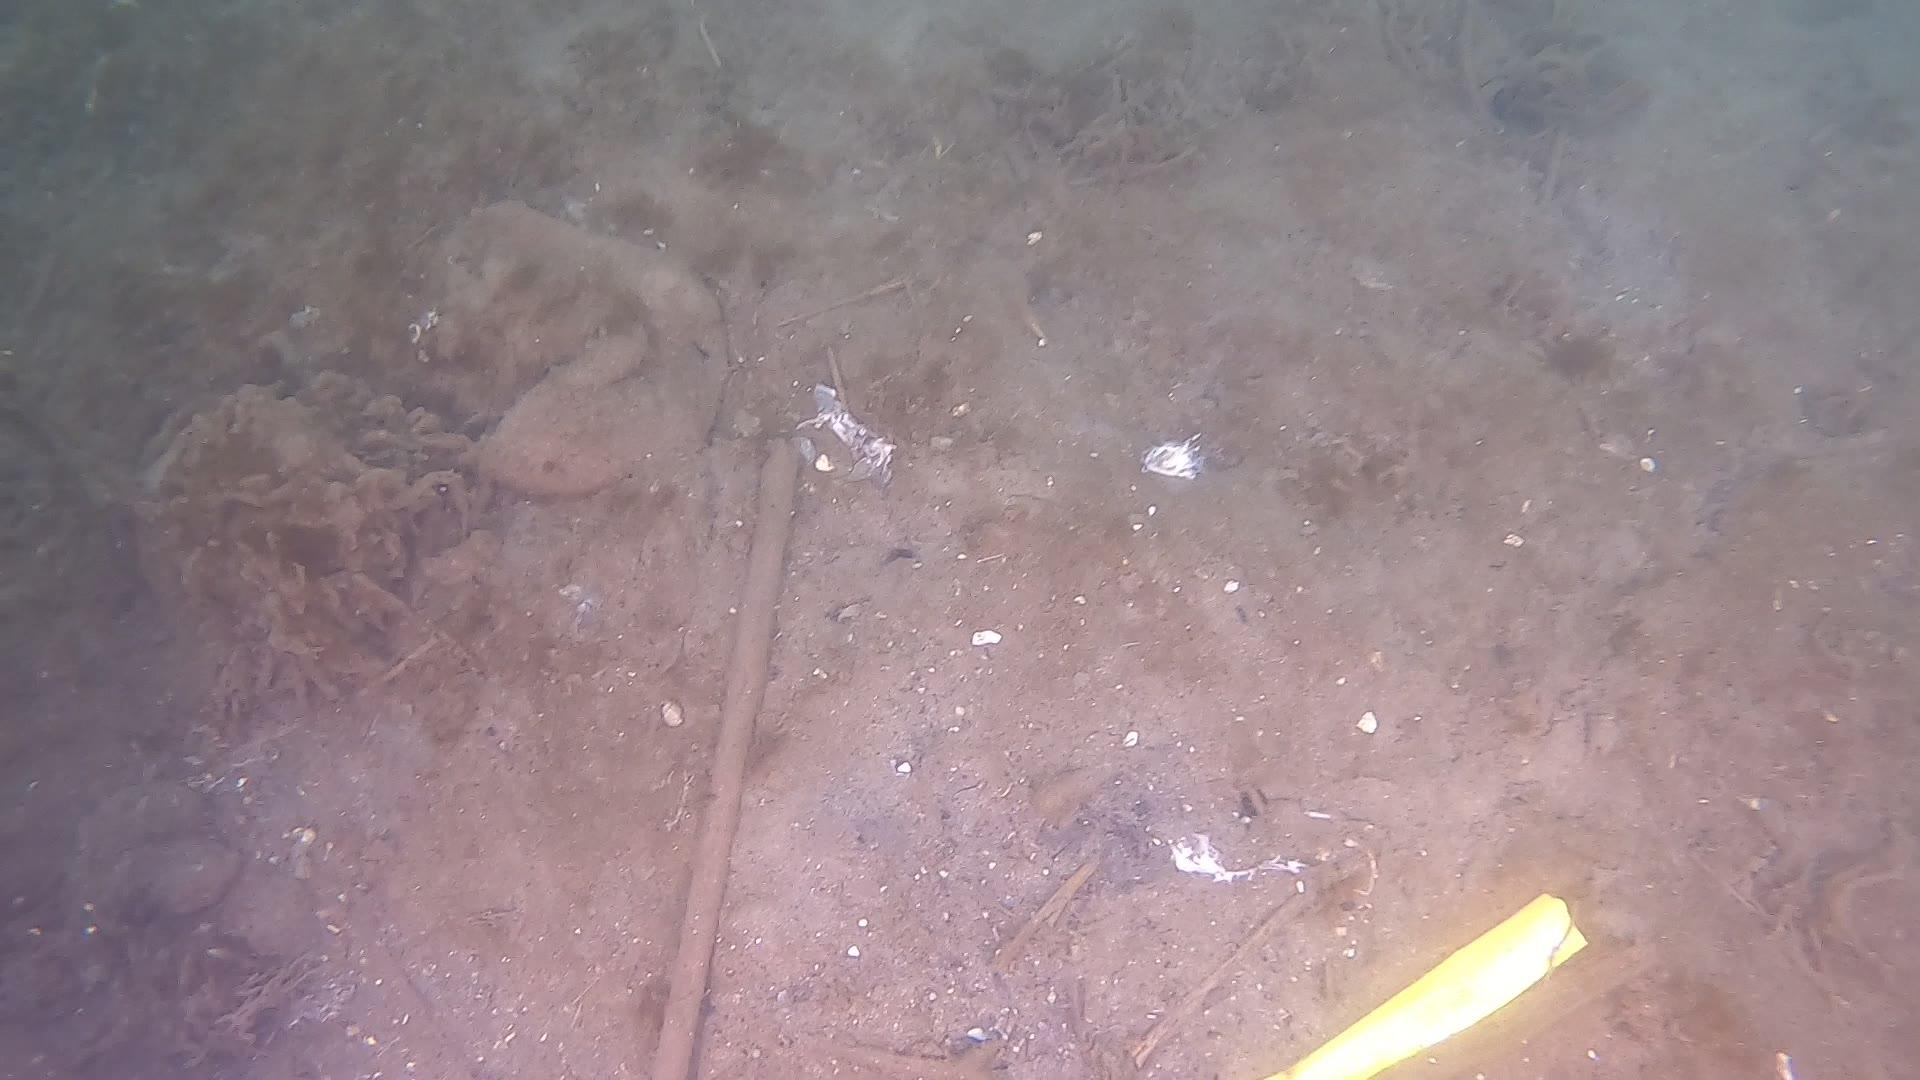wood: (640, 434, 798, 1080)
